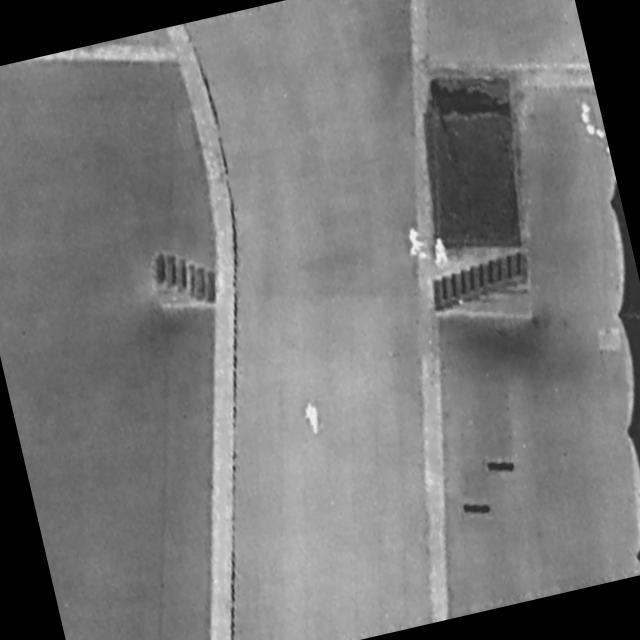person: (428, 235, 453, 272), (405, 225, 429, 262), (302, 400, 324, 437)
